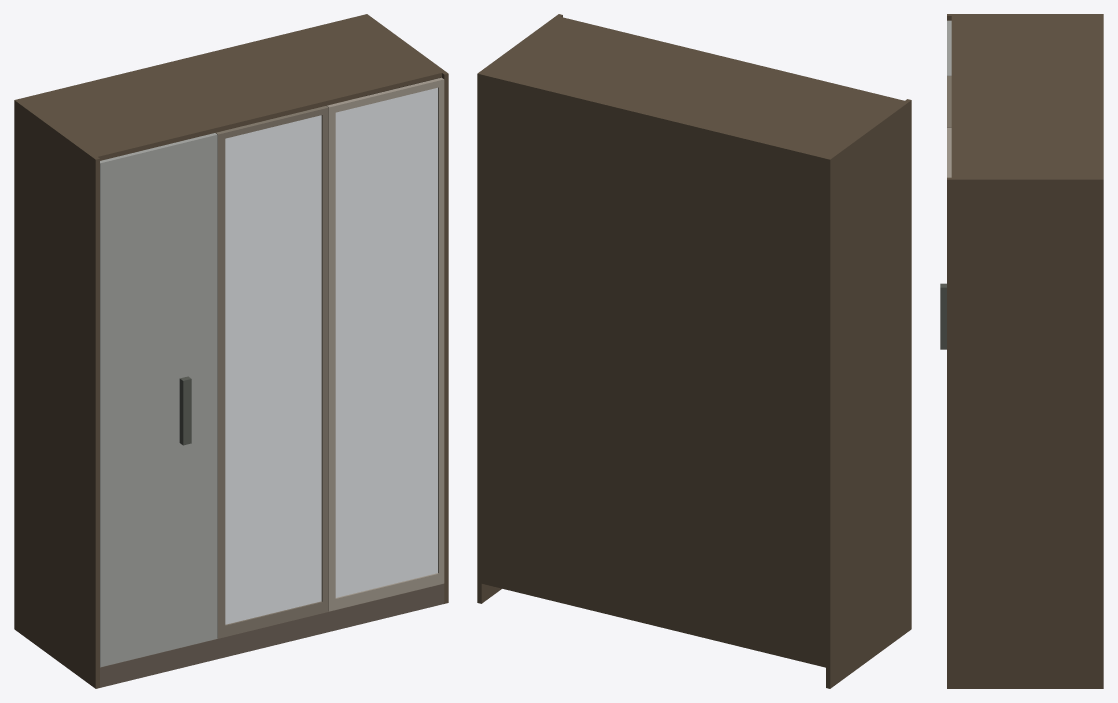
Rendered from mirrorHingedWardrobe.legacy.glb.
The picture shows the model from 3 angles, left to right: view 1: azimuth 30°, elevation 25°; view 2: azimuth 150°, elevation 25°; view 3: azimuth 270°, elevation 25°; orthographic projection. The views are drawn at different scales.
Parts seen in each view (by area): view 1: Plain left door frame, Right mirror pane, Center mirror pane, Left side panel, Top panel, Center door frame, Right door frame, Front plinth, Right side panel, Left door vertical handle; view 2: Back panel, Left side panel, Top panel, Right side panel, Internal base panel; view 3: Right side panel, Top panel, Left door vertical handle, Left side panel, Plain left door frame.
Part boxes in pixels (bbox=[...]): Plain left door frame: bbox=[100, 133, 217, 667]; Right mirror pane: bbox=[335, 87, 437, 597]; Center mirror pane: bbox=[225, 115, 321, 624]; Left side panel: bbox=[14, 99, 99, 688]; Top panel: bbox=[19, 15, 441, 160]; Center door frame: bbox=[216, 106, 328, 638]; Right door frame: bbox=[327, 77, 444, 611]; Front plinth: bbox=[100, 583, 444, 687]; Right side panel: bbox=[363, 14, 448, 603]; Left door vertical handle: bbox=[179, 376, 191, 445]; Back panel: bbox=[481, 79, 825, 663]; Left side panel: bbox=[826, 99, 911, 688]; Top panel: bbox=[481, 17, 904, 162]; Right side panel: bbox=[477, 14, 562, 603]; Internal base panel: bbox=[481, 579, 825, 667]; Right side panel: bbox=[947, 177, 1103, 688]; Top panel: bbox=[951, 16, 1103, 177]; Left door vertical handle: bbox=[940, 283, 946, 349]; Left side panel: bbox=[947, 14, 1103, 20]; Plain left door frame: bbox=[947, 20, 951, 75].
Size of the model in its own units: 1.5 by 2.15 by 0.625.
